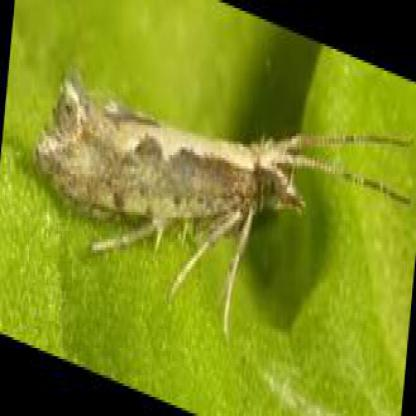plutella: (34, 73, 406, 339)
